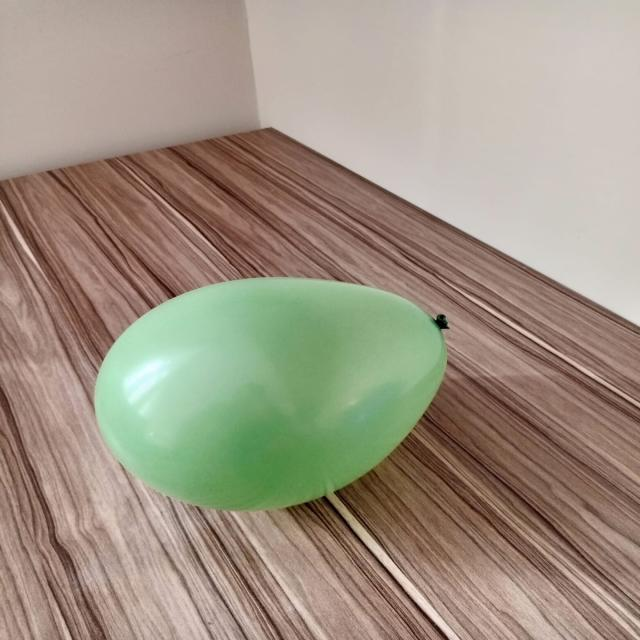balloon: (94, 278, 446, 511)
